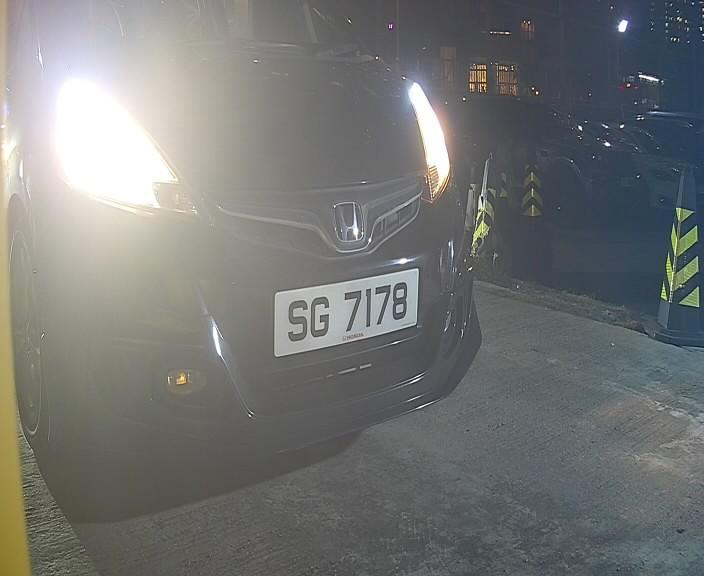privatecar: (13, 1, 497, 458)
